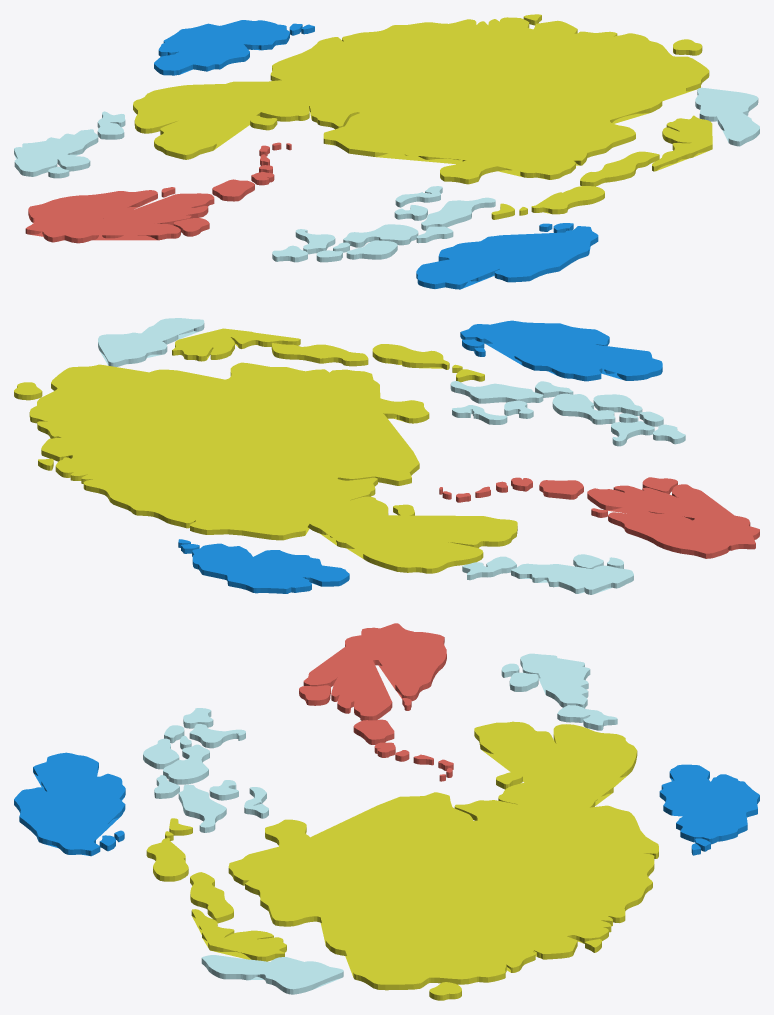
The model's file is Mapa_4_Regiones.fbx.
3 views of the same model, one above another, from view 1: azimuth 30°, elevation 25°; view 2: azimuth 150°, elevation 25°; view 3: azimuth 270°, elevation 25° (orthographic). The views are drawn at different scales.
Visible parts, largest first — view 1: Tierra, is, fuego, Agua sur, Aguar nort; view 2: Tierra, is, fuego, Agua sur, Aguar nort; view 3: Tierra, is, fuego, Agua sur, Aguar nort.
Boxes of the visible parts, bbox=[...] form: Tierra: bbox=[133, 14, 712, 219]; is: bbox=[14, 87, 759, 262]; fuego: bbox=[25, 142, 291, 243]; Agua sur: bbox=[416, 223, 598, 289]; Aguar nort: bbox=[154, 20, 314, 75]; Tierra: bbox=[14, 328, 517, 573]; is: bbox=[98, 318, 685, 594]; fuego: bbox=[439, 477, 759, 558]; Agua sur: bbox=[460, 320, 662, 381]; Aguar nort: bbox=[178, 539, 349, 593]; Tierra: bbox=[146, 721, 658, 1000]; is: bbox=[143, 653, 617, 994]; fuego: bbox=[299, 623, 453, 781]; Agua sur: bbox=[14, 752, 125, 856]; Aguar nort: bbox=[659, 764, 759, 855].
Size of the model in its own units: 441 by 3.15 by 373.
